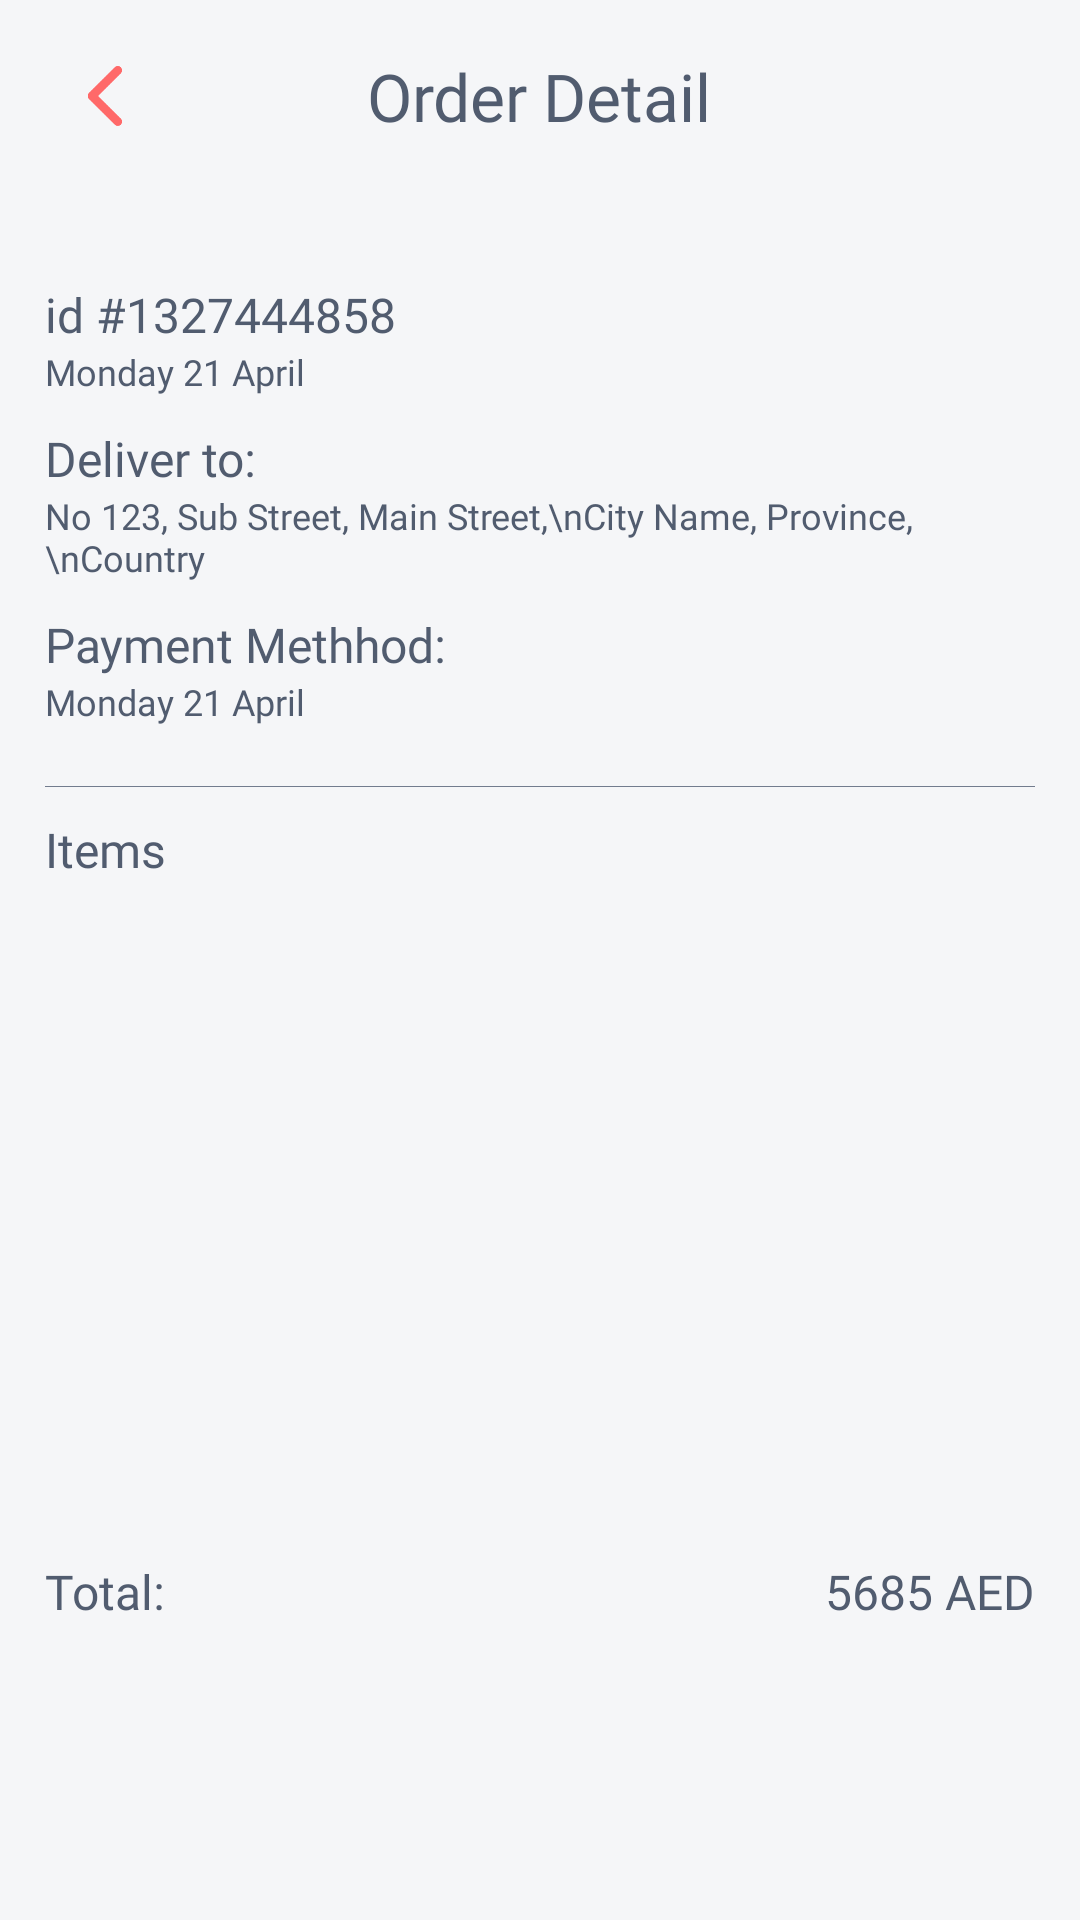

Icons on this 1080×1920 Android screen, each with its box as [left=x1, top=y1, right=x2, bottom=y2]:
back: [left=88, top=66, right=122, bottom=126]
